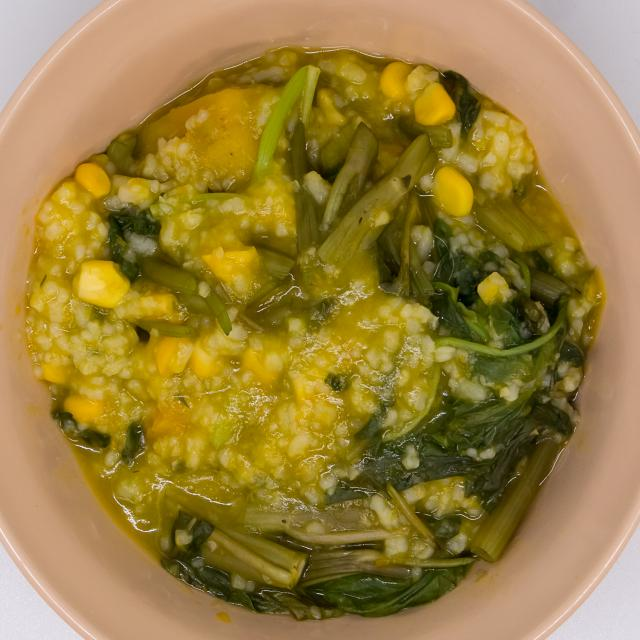Bubur-Manado: (17, 25, 606, 622)
